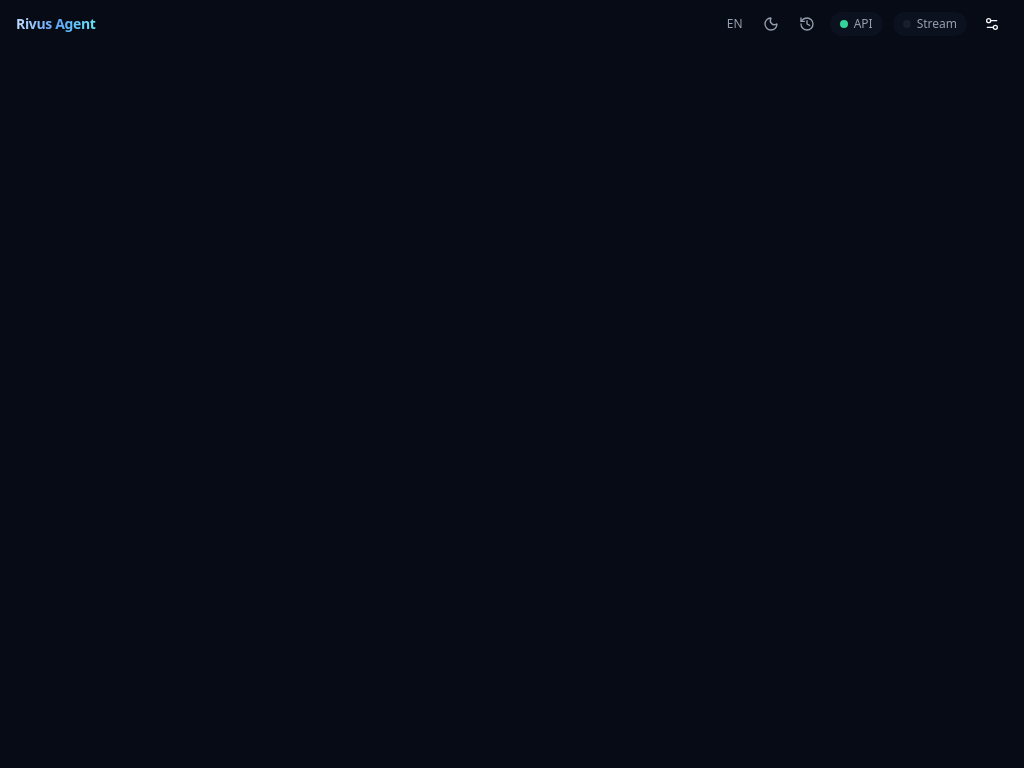
Test case: Header run-history entry › opens the run history dialog from the header button
This screenshot has width=1024, height=768.
Click the button named "运行历史" at {"x": 807, "y": 24}, box [793,10,821,38]
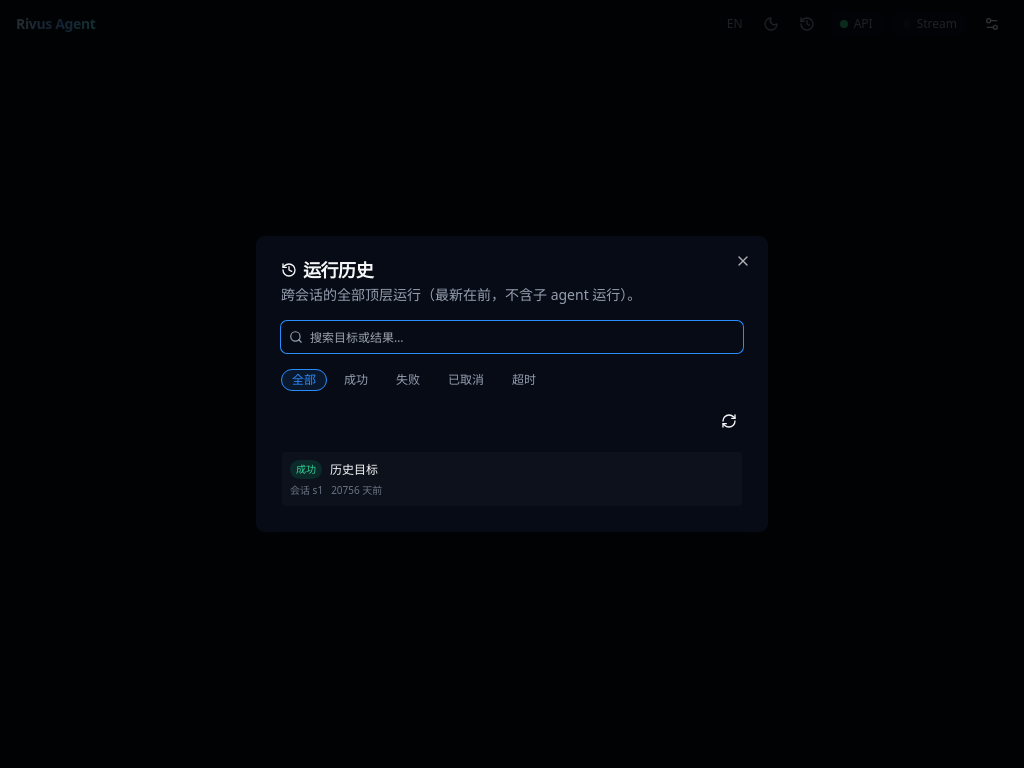
Expected: the text "历史目标" is shown, [330,462,378,478]
